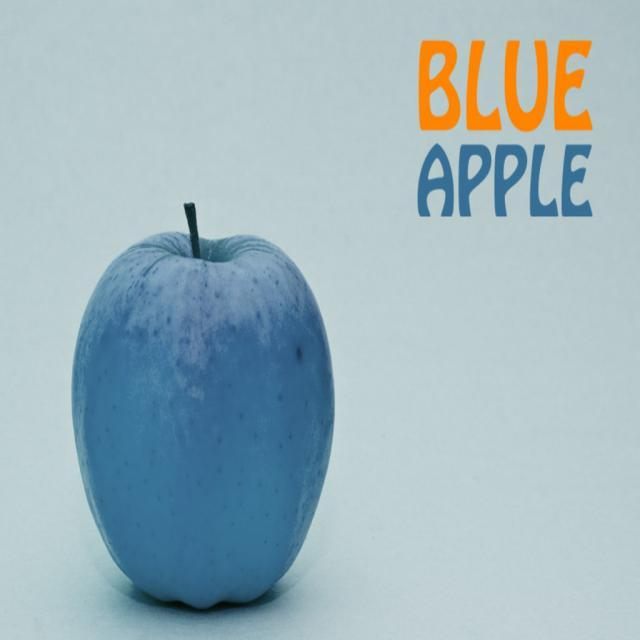Apple pie: (67, 221, 342, 619)
